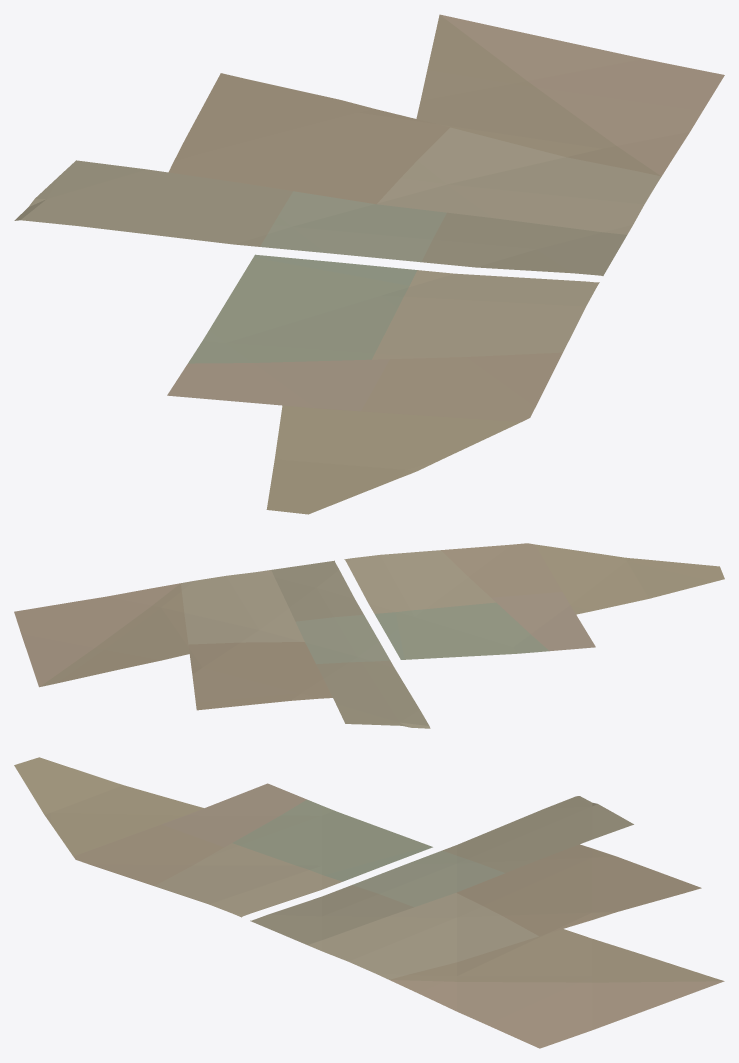
The model's file is farm_-11_-4_soil.glb.
3 renders of one model, top to bottom at view 1: azimuth 30°, elevation 25°; view 2: azimuth 150°, elevation 25°; view 3: azimuth 270°, elevation 25°, orthographic. The views are drawn at different scales.
Visible parts, largest first — view 1: geometry_0; view 2: geometry_0; view 3: geometry_0.
Boxes of the visible parts, x1,y1,x2,y2 form: geometry_0: [14, 14, 724, 514]; geometry_0: [14, 543, 724, 728]; geometry_0: [14, 757, 724, 1048].
Bounding box in the file's own units: 407 × 13.79 × 421.
